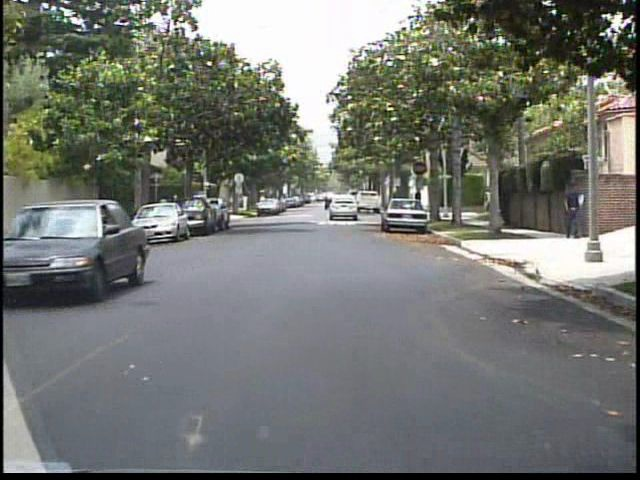person: (559, 177, 584, 243), (157, 192, 174, 231)
